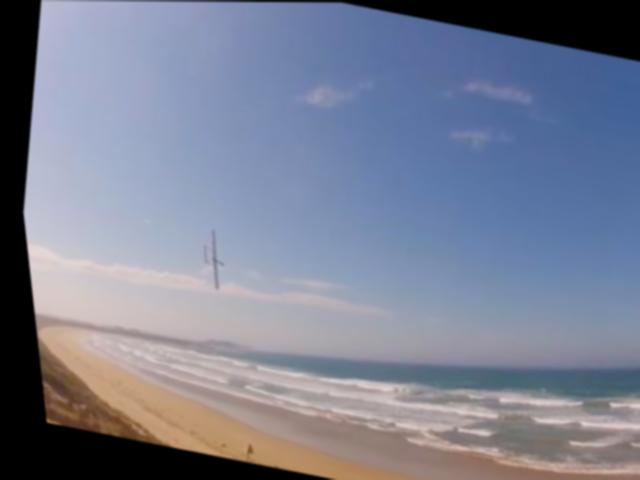uav: (186, 225, 228, 291)
